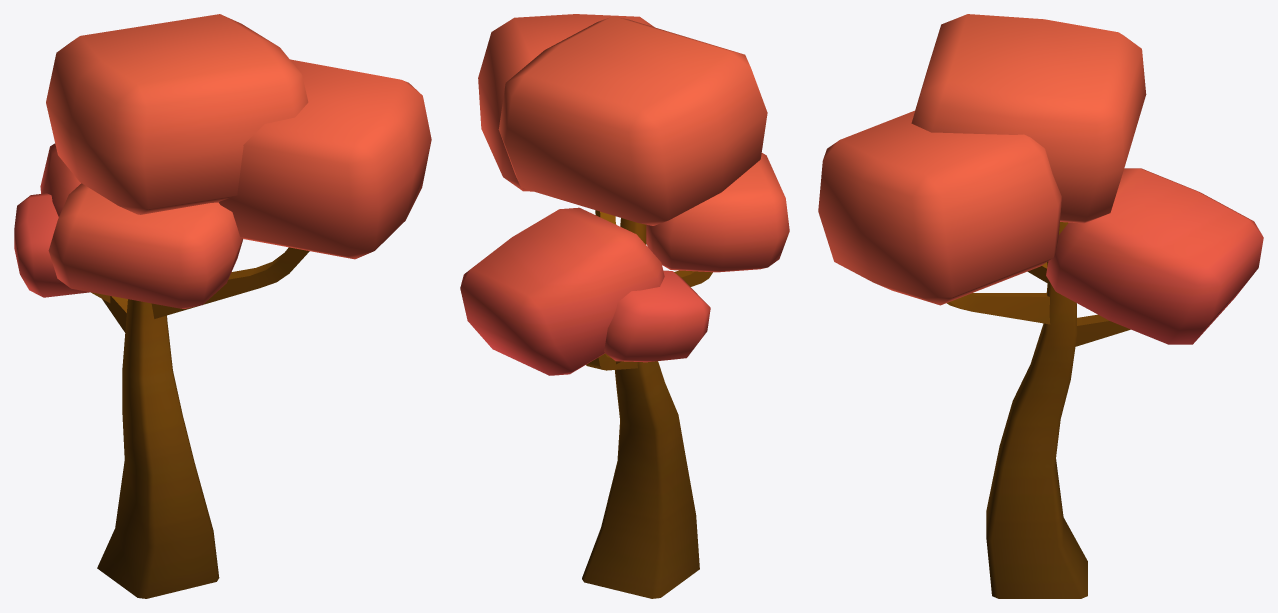
Rendered from Tree_E_7_.fbx.
3 views of the same model, side by side, from view 1: azimuth 30°, elevation 25°; view 2: azimuth 150°, elevation 25°; view 3: azimuth 270°, elevation 25° (orthographic). The views are drawn at different scales.
Visible parts, largest first — view 1: Tree_E_7; view 2: Tree_E_7; view 3: Tree_E_7.
Boxes of the visible parts, x1,y1,x2,y2 form: Tree_E_7: (14,14,431,598); Tree_E_7: (460,14,789,598); Tree_E_7: (818,14,1263,598).
Bounding box in the file's own units: 295 × 438 × 329.
